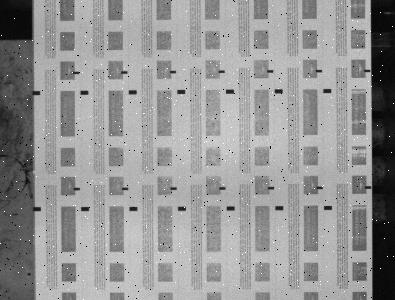backgroundclutter: (27, 272, 31, 276)
qblock: (177, 89, 186, 94), (129, 206, 138, 211), (33, 206, 41, 211), (324, 205, 332, 210), (178, 206, 186, 211), (323, 89, 332, 93), (275, 206, 284, 210), (32, 91, 40, 95), (80, 91, 88, 95), (129, 90, 137, 94), (275, 89, 283, 93), (226, 89, 234, 93), (81, 207, 89, 211), (227, 206, 235, 210)
smallqblock: (170, 70, 177, 74), (268, 186, 274, 190), (267, 70, 274, 73), (170, 187, 177, 190), (365, 186, 372, 189), (73, 71, 79, 74), (219, 70, 225, 73), (121, 71, 127, 74), (74, 187, 80, 190), (122, 187, 128, 190), (316, 70, 322, 73), (220, 187, 226, 190), (317, 186, 323, 189), (365, 69, 371, 72)
